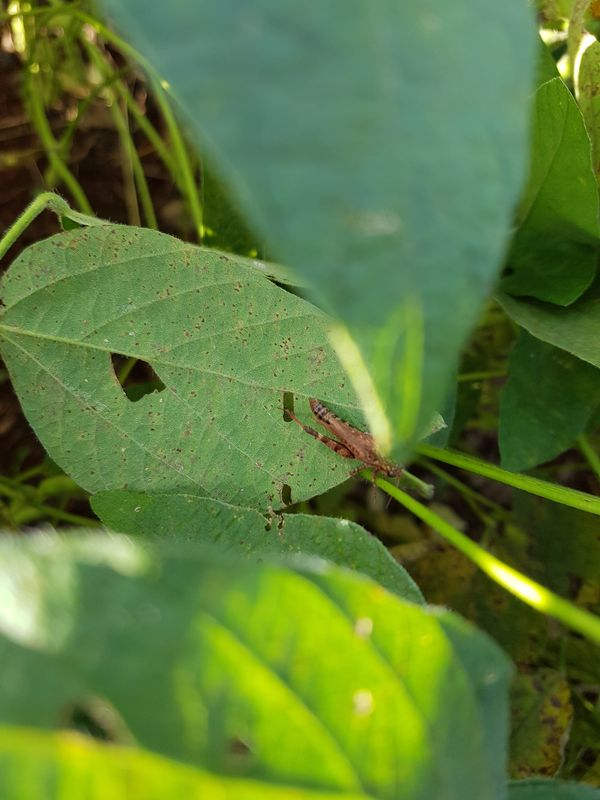Rhammatocerus_schistocercoides: (273, 380, 430, 508)
